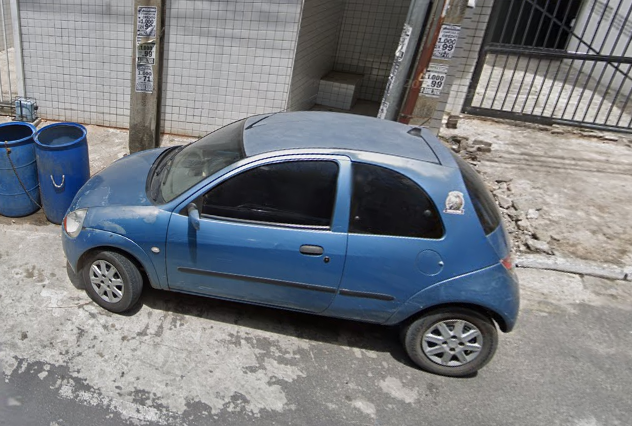car: (57, 93, 524, 385)
